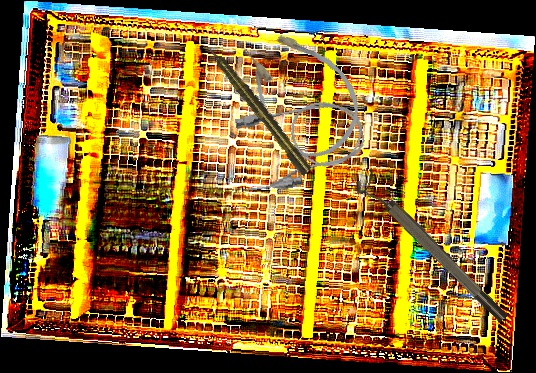Cannula: (224, 10, 377, 174), (226, 91, 372, 199)
Fixation Ring: (352, 168, 511, 332)
Handpiece: (201, 39, 314, 178)
